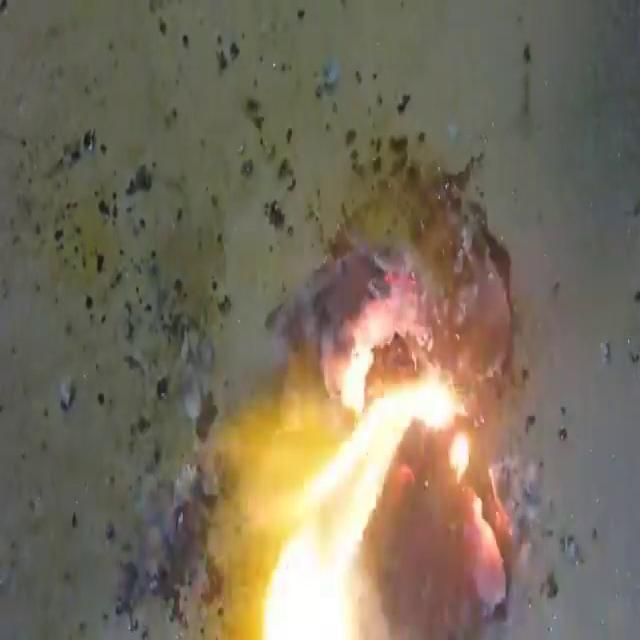Fire: (180, 140, 546, 640)
